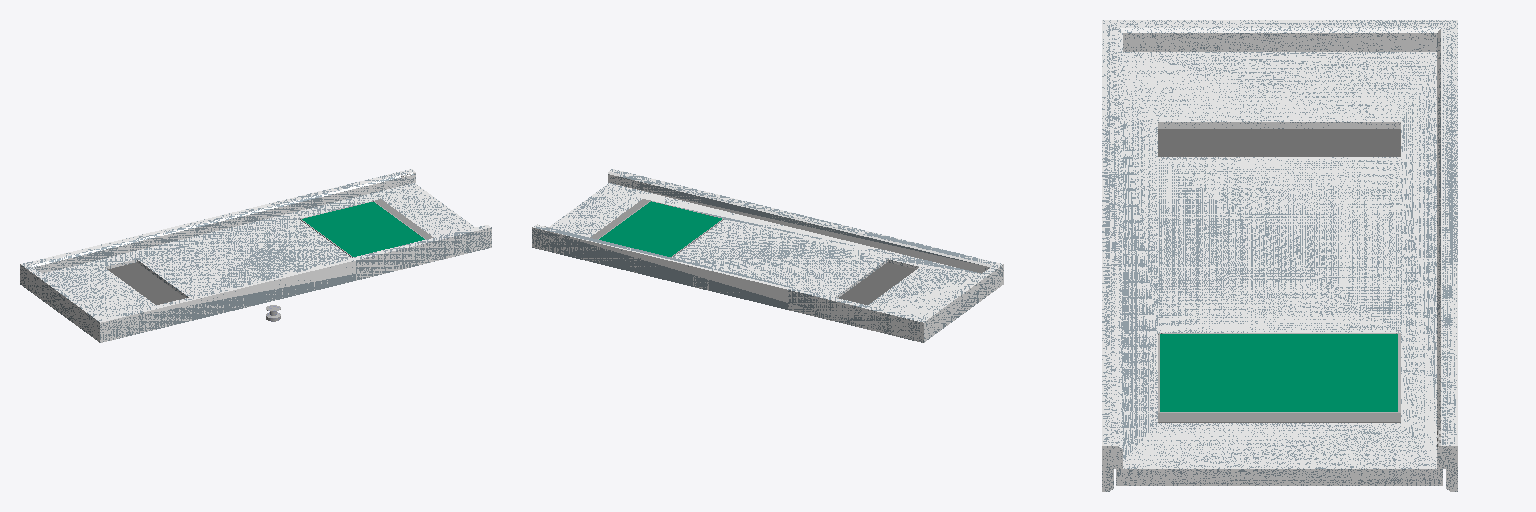
The robot description file, URDF, robot "right-pull-door":
<?xml version="1.0" ?>
<robot name="right-pull-door">
	<link name="base"/>
	<link name="link_0">
		<visual name="out-frame">
			<origin xyz="0 0 0"/>
			<geometry>
				<mesh filename="texture_dae/frame.dae" scale="0.780177893225863 0.780177893225863 0.780177893225863"/>
			</geometry>
		</visual>
		<collision>
			<origin xyz="0 0 0"/>
			<geometry>
				<mesh filename="texture_dae/frame.dae" scale="0.780177893225863 0.780177893225863 0.780177893225863"/>
			</geometry>
		</collision>
	</link>
	<joint name="joint_0" type="fixed">
		<origin rpy="1.570796326794897 0 -1.570796326794897" xyz="0 0 0"/>
		<child link="link_0"/>
		<parent link="base"/>
	</joint>
	<link name="link_1">
		<visual name="surf-board">
			<origin xyz="0.3315644592064681 -0.9085787293538666 0"/>
			<geometry>
				<mesh filename="texture_dae/board.dae" scale="0.780177893225863 0.780177893225863 0.780177893225863"/>
			</geometry>
		</visual>
		<collision>
			<origin xyz="0.3315644592064681 -0.9085787293538666 0"/>
			<geometry>
				<mesh filename="texture_dae/board.dae" scale="0.780177893225863 0.780177893225863 0.780177893225863"/>
			</geometry>
		</collision>
	</link>
	<joint name="joint_1" type="revolute">
		<origin xyz="-0.3315644592064681 0.9085787293538666 0"/>
		<axis xyz="0 -1 0"/>
		<child link="link_1"/>
		<parent link="link_0"/>
		<limit lower="0" upper="1.5079644737231006"/>
	</joint>
	<link name="link_2">
		<visual name="handle">
			<origin xyz="0 0 0"/>
			<geometry>
				<mesh filename="texture_dae/9962011.dae" scale="1.2317828195024778 1.2317828195024778 1.2317828195024778"/>
			</geometry>
		</visual>
		<collision>
			<origin xyz="0 0 0"/>
			<geometry>
				<mesh filename="texture_dae/9962011.dae" scale="1.2317828195024778 1.2317828195024778 1.2317828195024778"/>
			</geometry>
		</collision>
	</link>
	<joint name="joint_2" type="revolute">
		<origin xyz="0.5572721446800101 -1.0451207839434795 0.04695094883249122"/>
		<child link="link_2"/>
		<parent link="link_1"/>
		<axis xyz="0 0 1"/>
		<limit lower="0" upper="1.5079644737231006"/>
	</joint>
</robot>

--- Facts derived from the render (not from the file) ---
Views: 3 orthographic renders of the robot side by side, from view 1: azimuth 30°, elevation 25°; view 2: azimuth 150°, elevation 25°; view 3: azimuth 270°, elevation 25°.
Model right-pull-door with 4 links and 3 joints (2 revolute, 1 fixed), rooted at base, posed every joint at zero.
Links seen in each view (by area): view 1: link_1, link_0; view 2: link_1, link_0; view 3: link_1, link_0.
Boxes of the visible links, x1=… form: link_1: x1=43, y1=172, x2=475, y2=317; link_0: x1=20, y1=169, x2=491, y2=342; link_1: x1=533, y1=183, x2=980, y2=317; link_0: x1=532, y1=169, x2=1003, y2=342; link_1: x1=1116, y1=52, x2=1442, y2=485; link_0: x1=1102, y1=20, x2=1457, y2=491.
Bounding box of the posed robot: 1.87 × 0.6632 × 0.2385 m (x, y, z).
3 mesh visuals loaded from 3 distinct referenced files (3 Collada DAE).
